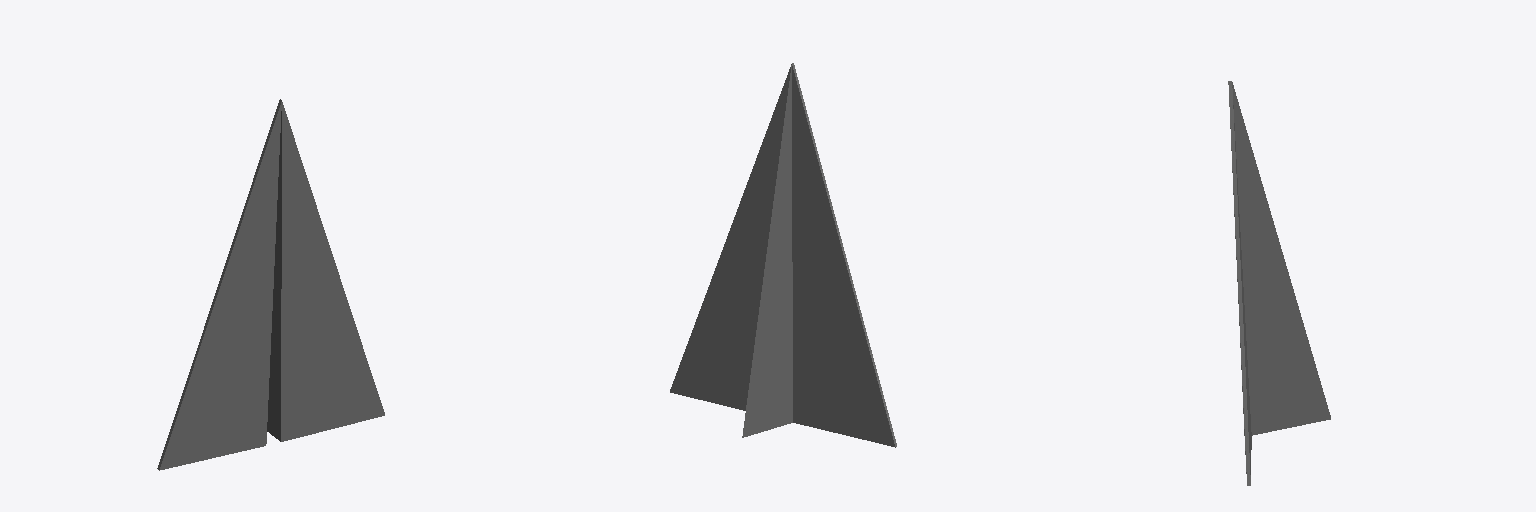
The model's file is Happy_fly.obj.
3 renders of one model, left to right at view 1: azimuth 30°, elevation 25°; view 2: azimuth 150°, elevation 25°; view 3: azimuth 270°, elevation 25°, orthographic.
Visible parts, largest first — view 1: Happy_Fly:pCube2; view 2: Happy_Fly:pCube2; view 3: Happy_Fly:pCube2.
Boxes of the visible parts, x1=… form: Happy_Fly:pCube2: x1=157, y1=99, x2=384, y2=470; Happy_Fly:pCube2: x1=670, y1=63, x2=896, y2=447; Happy_Fly:pCube2: x1=1228, y1=81, x2=1330, y2=485.
Bounding box in the file's own units: 1.85 × 2.74 × 0.7327.